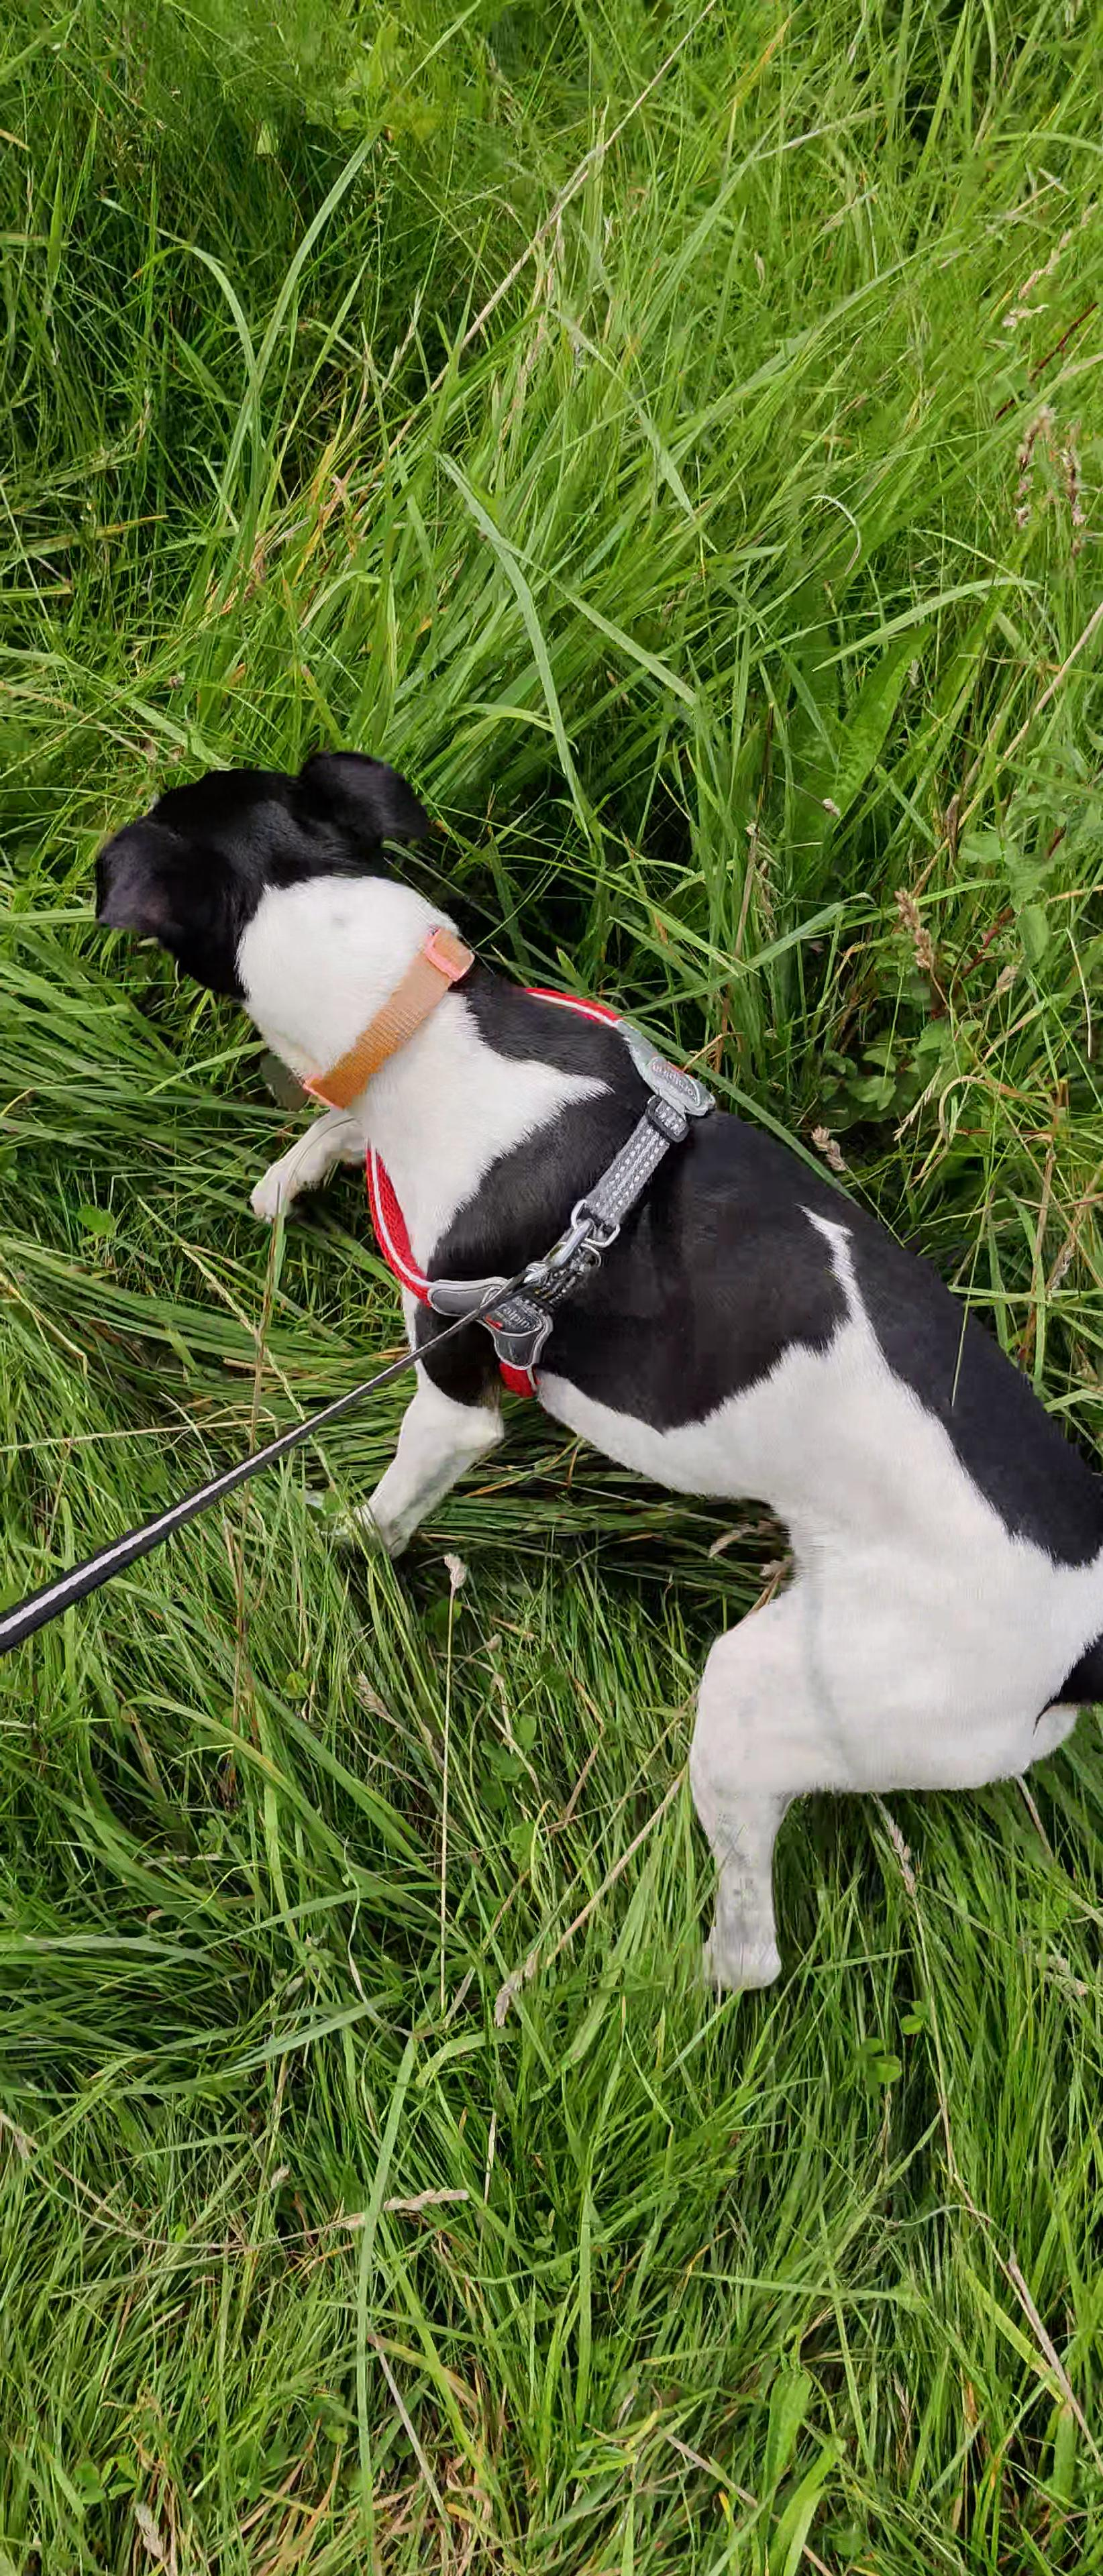Dog: (43, 708, 1103, 2021)
